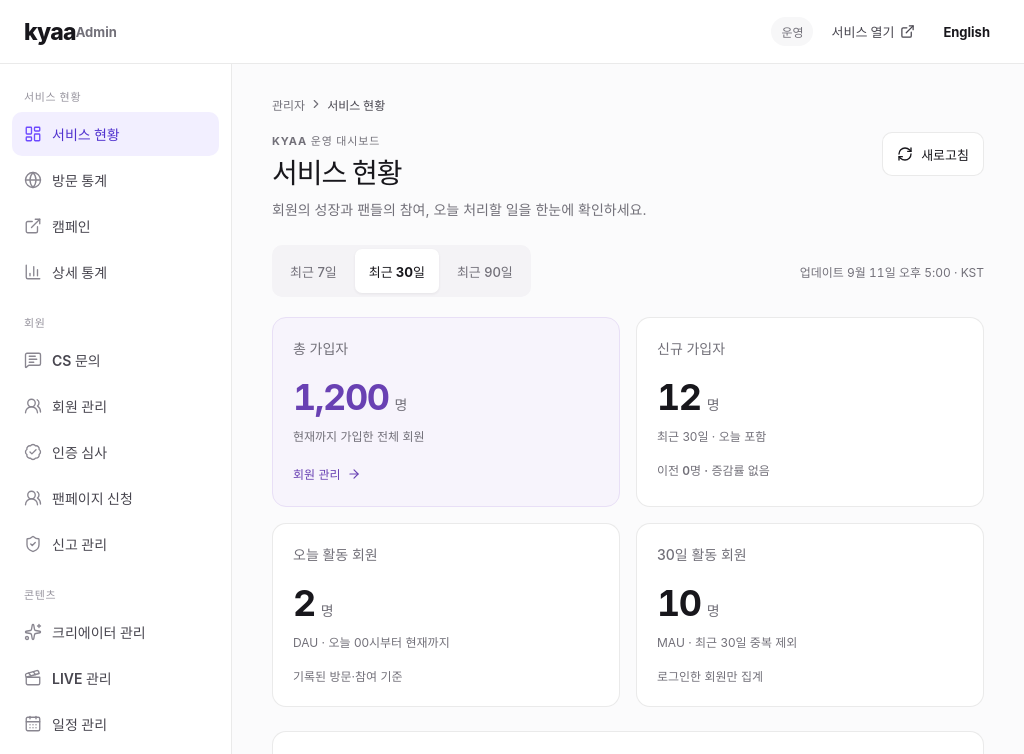
Test case: admin business overview › fetches real schema payload and applies the requested range
The width and height of the screenshot is (1024, 754).
Check: the heading "총 가입자" is shown, box [293,338,348,358]
Click the button "최근 7일" at {"x": 313, "y": 271}, box [276,249,351,293]
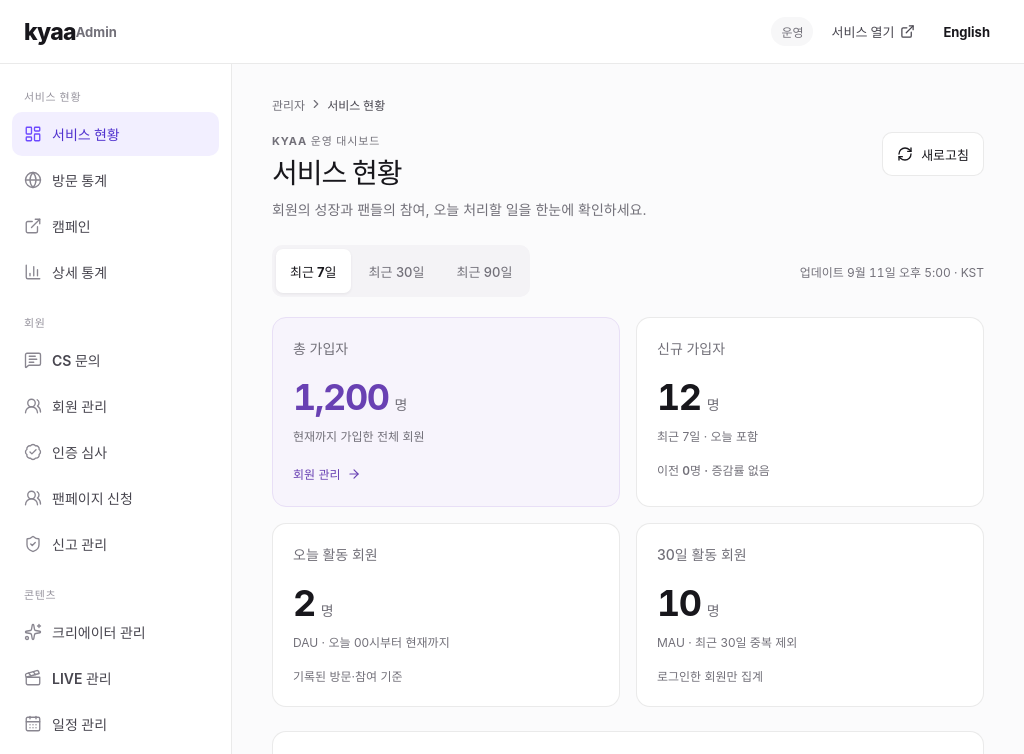
Check: the text "최근 7일 · 오늘 포함" is shown, box [657,428,758,446]
